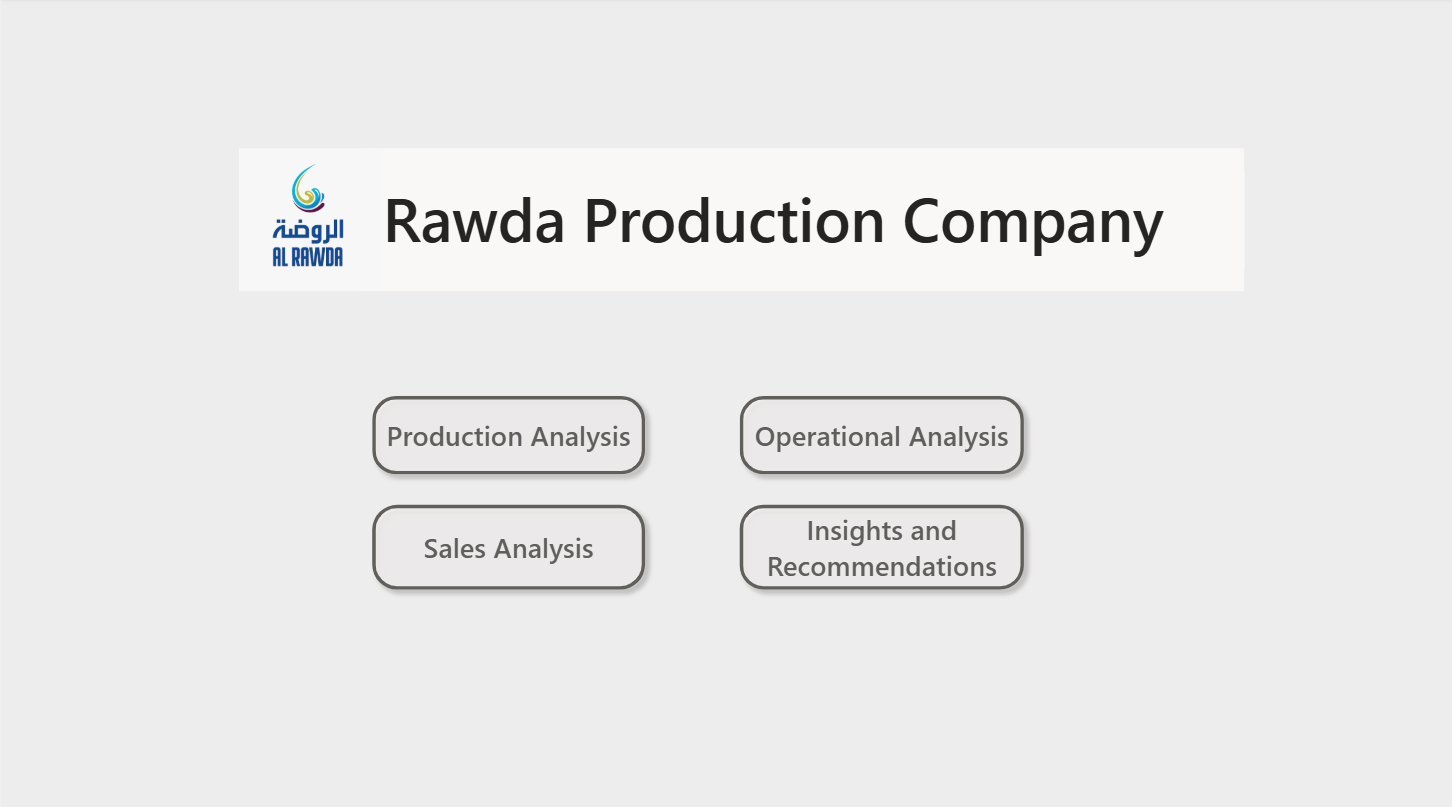

Layout of this report page (visuals, bound fields, positions):
{"tool":"powerbi","page":{"name":"Main Dashboard","canvas":[1280,720],"ordinal":0},"visuals":[{"type":"shape","box":[317.1,132.9,775.7,125.7],"z":0},{"type":"textbox","box":[330,152.9,762.9,87.1],"z":1000},{"type":"image","box":[142.9,132.9,257.1,125.7],"z":2000},{"type":"actionButton","box":[316.4,342.1,258,86.9],"z":3000},{"type":"actionButton","box":[316.4,437.6,258,92.7],"z":4000},{"type":"actionButton","box":[640,342.1,268,86.9],"z":5000},{"type":"actionButton","box":[640,437.6,268,92.7],"z":6000}]}

Visuals, with their boxes in screenshot pixels (x1, y1, x2, y2), scaled from the page's 1280x720 canvas onto the 1452x807 screenshot:
shape: box=[360, 149, 1240, 290]
textbox: box=[374, 171, 1240, 269]
image: box=[162, 149, 454, 290]
actionButton: box=[359, 383, 652, 481]
actionButton: box=[359, 490, 652, 594]
actionButton: box=[726, 383, 1030, 481]
actionButton: box=[726, 490, 1030, 594]
